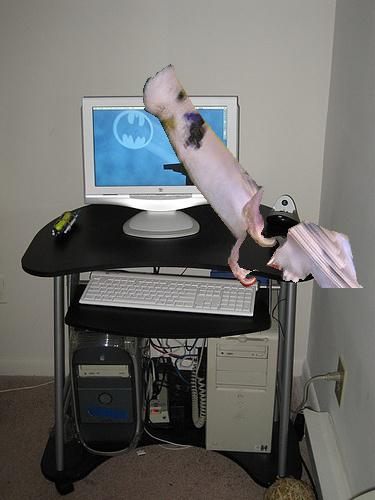tampered: (144, 65, 366, 288)
